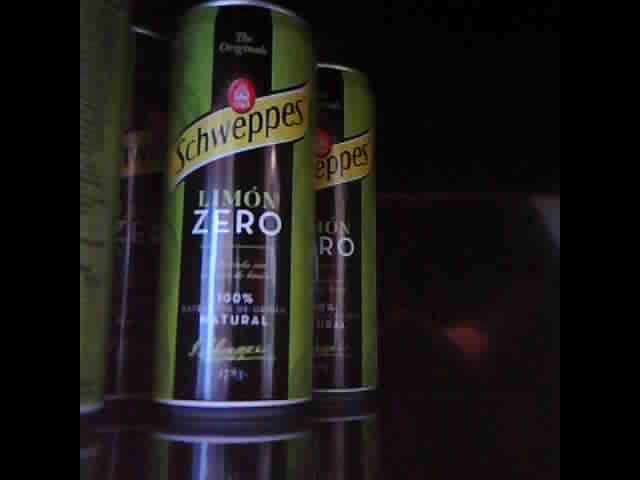schweppes: (150, 1, 314, 423), (81, 1, 152, 424), (310, 58, 380, 403)
